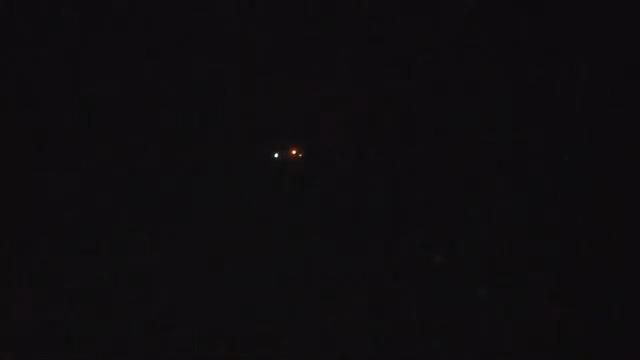Plane: (255, 141, 323, 168)
